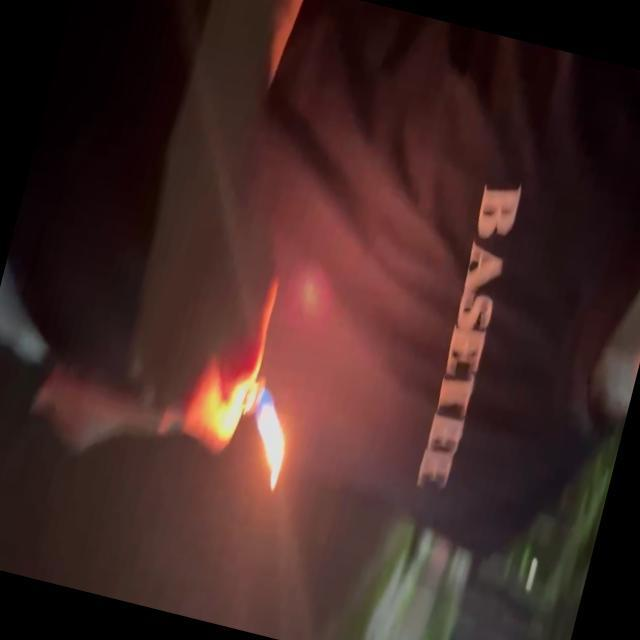Fire: (230, 381, 305, 498)
